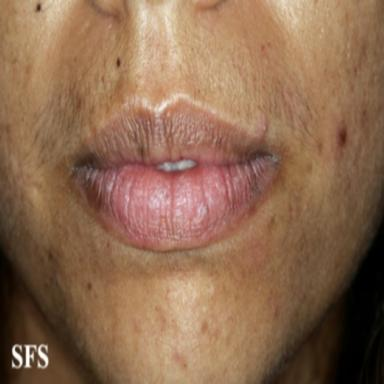lichen: (111, 163, 230, 239)
